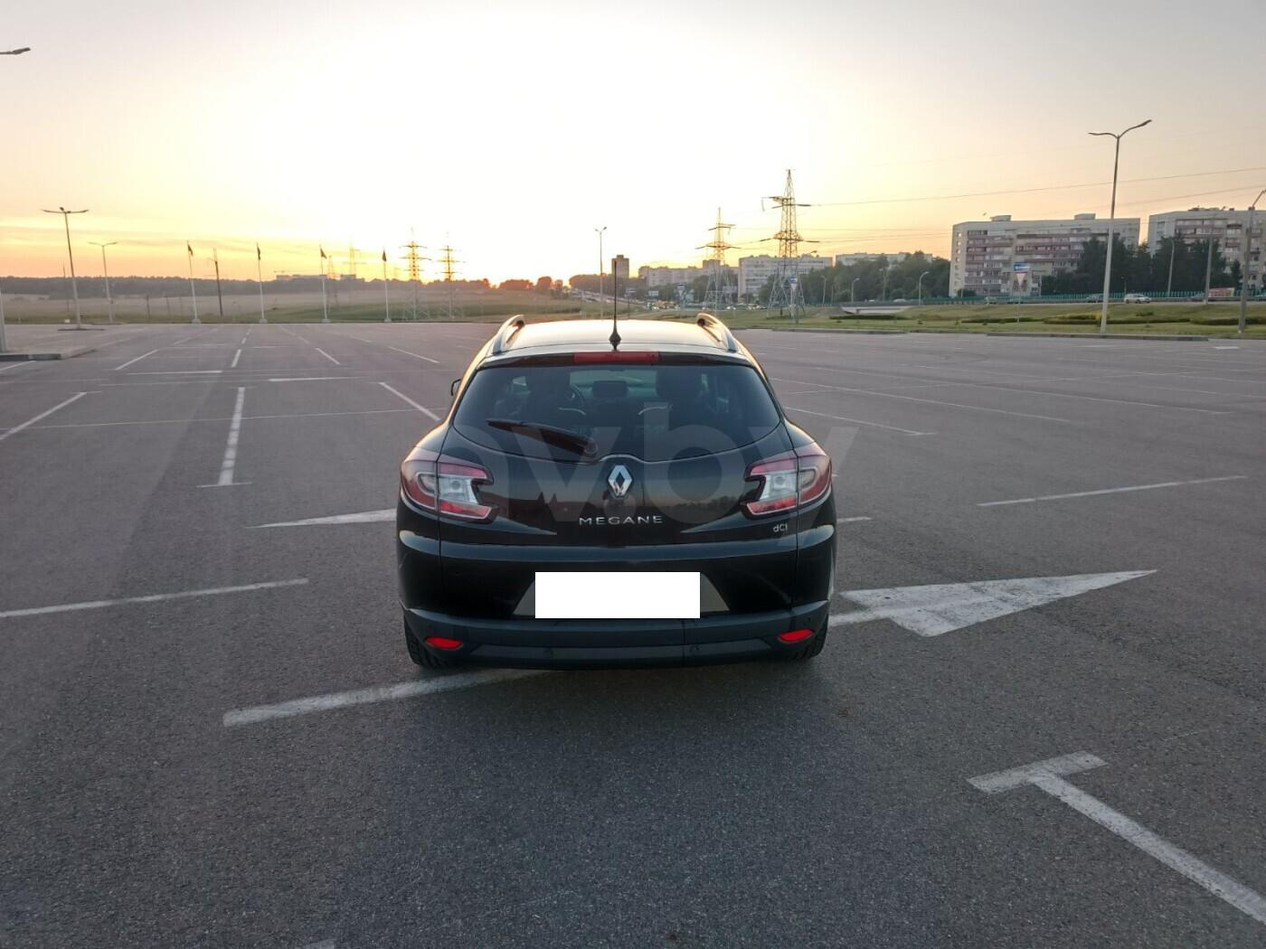Megane_2014-2016: (394, 309, 824, 680)
